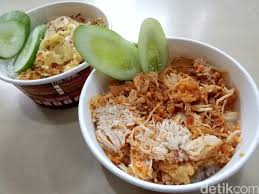ayam_geprek: (101, 65, 234, 169)
